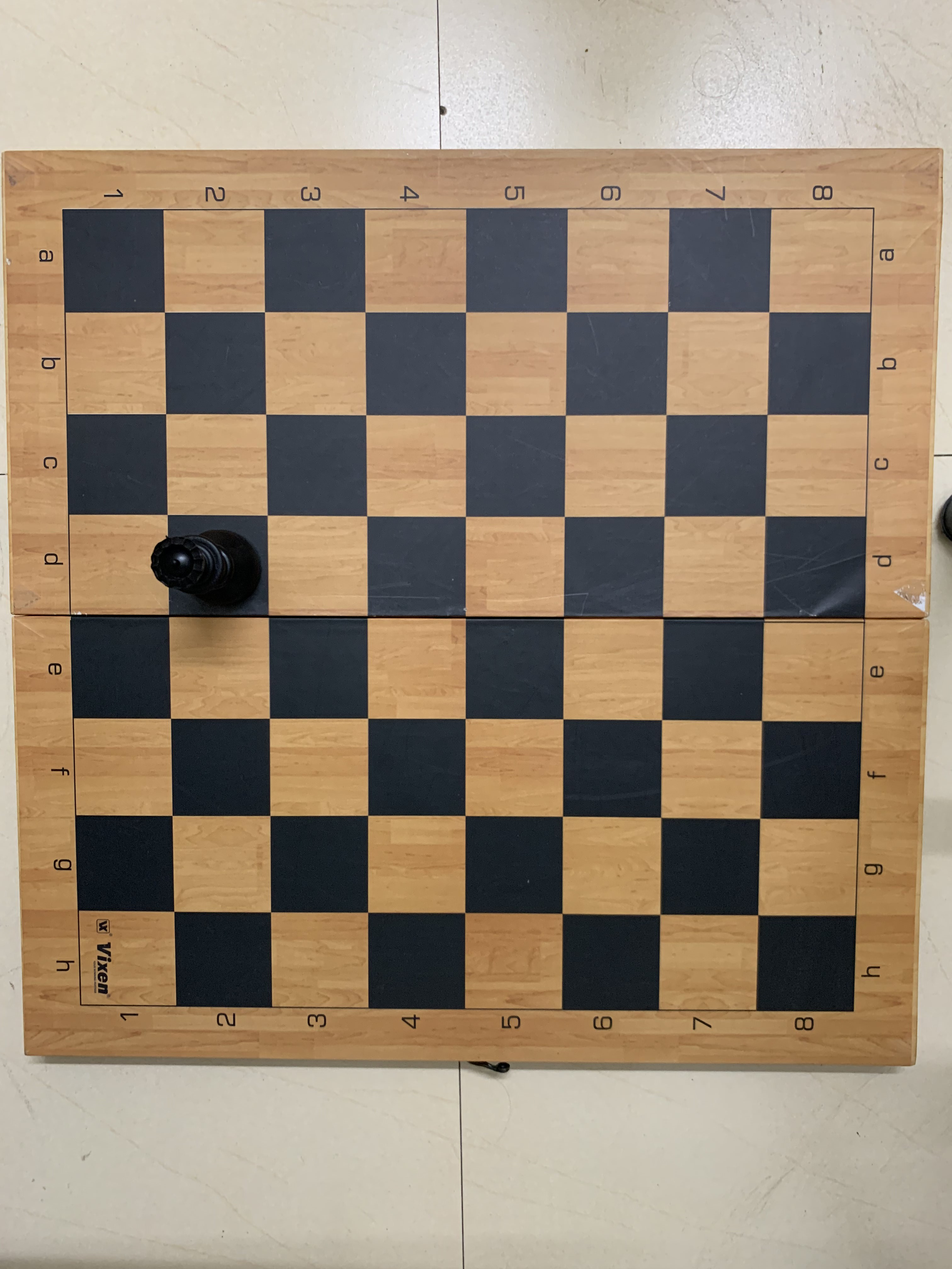black_queen: (143, 519, 277, 617)
